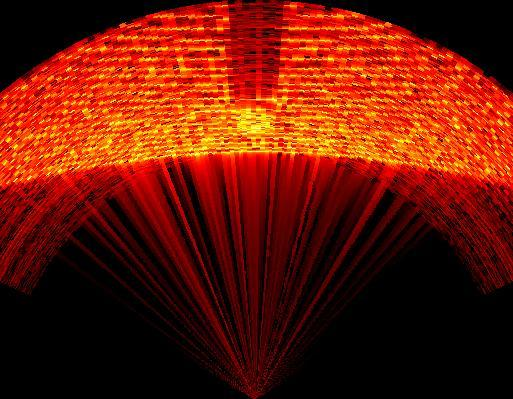box_crate: (222, 0, 284, 99)
